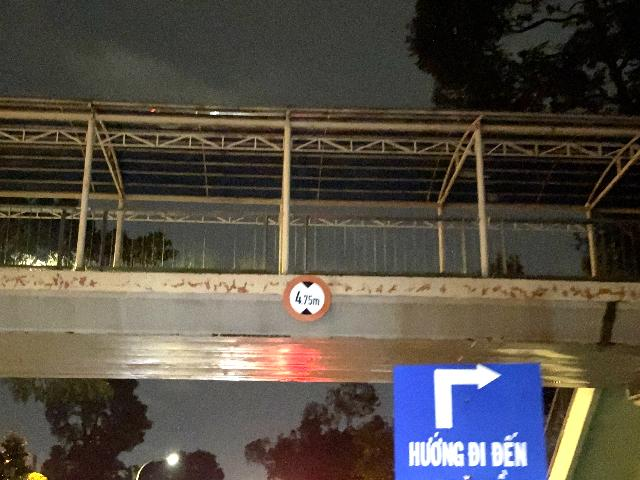han-che-chieu-cao: (283, 274, 333, 323)
